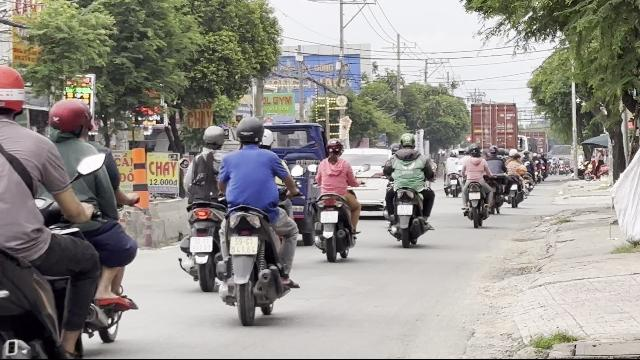helmet: (47, 98, 91, 140), (0, 64, 28, 122), (234, 116, 266, 148), (201, 124, 225, 150), (324, 138, 344, 158), (399, 132, 415, 148)
licenseplate: (230, 236, 258, 254), (190, 236, 212, 252), (322, 211, 338, 223), (396, 204, 412, 214)
motorcyclist: (1, 62, 137, 356), (42, 91, 140, 359), (216, 112, 300, 324), (176, 121, 228, 289), (310, 138, 362, 261), (382, 132, 436, 246)
